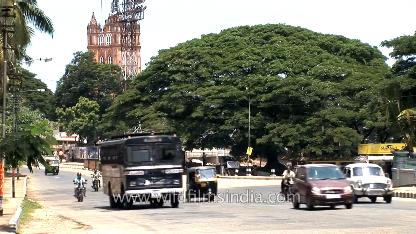auto-rikshaw: (186, 162, 219, 202), (43, 156, 61, 176)
bike: (71, 171, 89, 207), (280, 166, 298, 198), (90, 166, 102, 192)
car: (290, 163, 352, 213), (343, 158, 393, 204)
priority: (100, 132, 184, 206)
